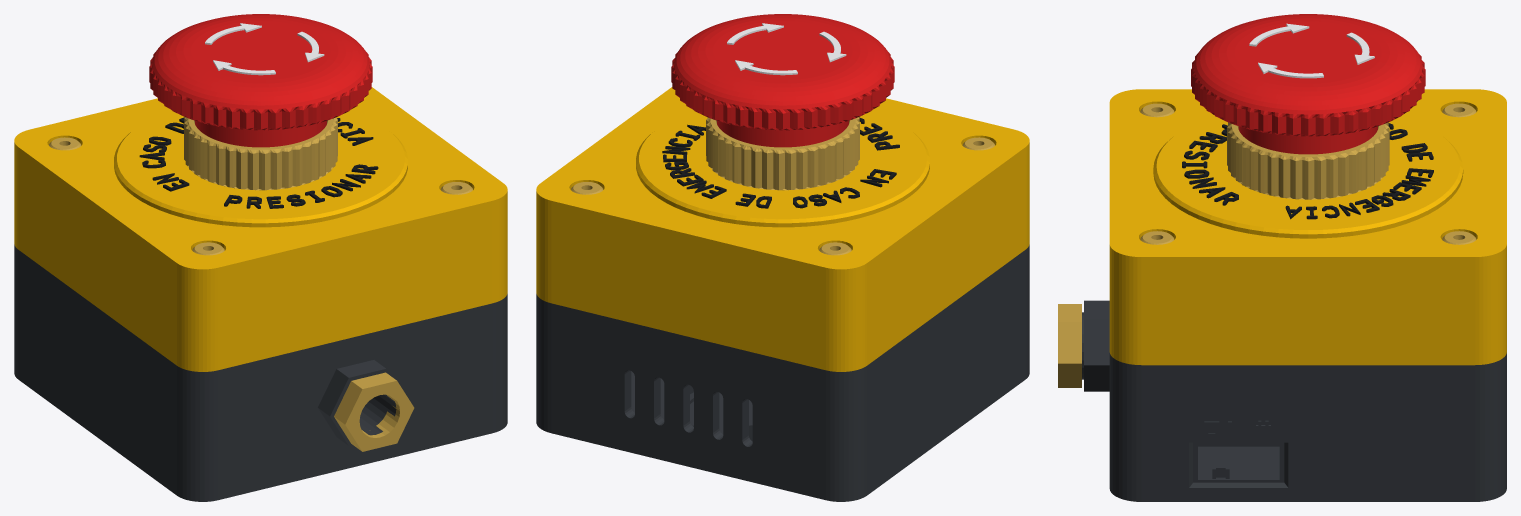
Rendered from boton_musical_3d.glb.
3 renders of one model, left to right at view 1: azimuth 30°, elevation 25°; view 2: azimuth 150°, elevation 25°; view 3: azimuth 270°, elevation 25°, orthographic. The views are drawn at different scales.
Visible parts, largest first — view 1: Tapa_Superior_Amarilla, Base_Carcasa_Gris, Boton_Seta_Rojo, Cuello_Estriado_Dorado, Tuerca_Prensaestopas_Dorada, Texto_Superior_Negro, Texto_Inferior_Negro, Flechas_Blancas; view 2: Tapa_Superior_Amarilla, Base_Carcasa_Gris, Boton_Seta_Rojo, Cuello_Estriado_Dorado, Texto_Superior_Negro, Flechas_Blancas, Texto_Inferior_Negro; view 3: Tapa_Superior_Amarilla, Base_Carcasa_Gris, Boton_Seta_Rojo, Cuello_Estriado_Dorado, Texto_Superior_Negro, Tuerca_Prensaestopas_Dorada, Texto_Inferior_Negro, Flechas_Blancas, Guia_PCB_Sur.
Part boxes in pixels (x1,y1,x2,y2): Tapa_Superior_Amarilla: (14,87,507,371); Base_Carcasa_Gris: (14,244,507,501); Boton_Seta_Rojo: (149,14,372,147); Cuello_Estriado_Dorado: (184,117,337,190); Tuerca_Prensaestopas_Dorada: (334,372,414,451); Texto_Superior_Negro: (139,117,373,191); Texto_Inferior_Negro: (224,164,378,208); Flechas_Blancas: (205,23,324,75); Tapa_Superior_Amarilla: (536,87,1029,371); Base_Carcasa_Gris: (536,244,1029,501); Boton_Seta_Rojo: (671,14,894,147); Cuello_Estriado_Dorado: (706,117,859,190); Texto_Superior_Negro: (662,124,896,208); Flechas_Blancas: (727,23,846,75); Texto_Inferior_Negro: (859,117,899,150); Tapa_Superior_Amarilla: (1109,89,1506,365); Base_Carcasa_Gris: (1082,300,1506,501); Boton_Seta_Rojo: (1191,14,1425,154); Cuello_Estriado_Dorado: (1227,122,1389,199); Texto_Superior_Negro: (1285,123,1433,219); Tuerca_Prensaestopas_Dorada: (1058,304,1081,387); Texto_Inferior_Negro: (1182,124,1238,205); Flechas_Blancas: (1249,23,1374,78); Guia_PCB_Sur: (1204,420,1270,478).
Bounding box in the file's own units: 0.1013 × 0.102 × 0.113.
